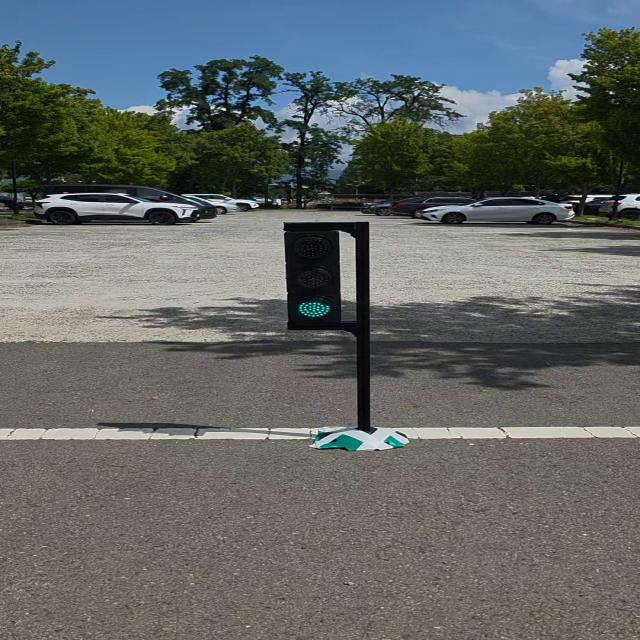green: (286, 226, 342, 328)
